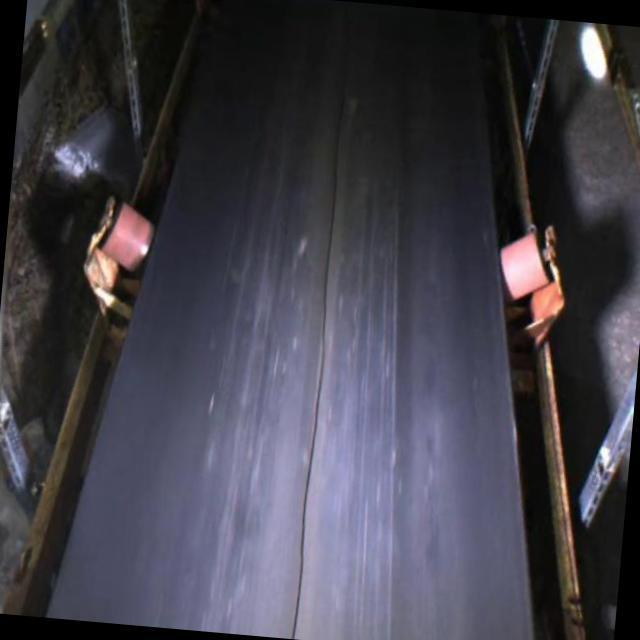Tear: (281, 88, 352, 640)
